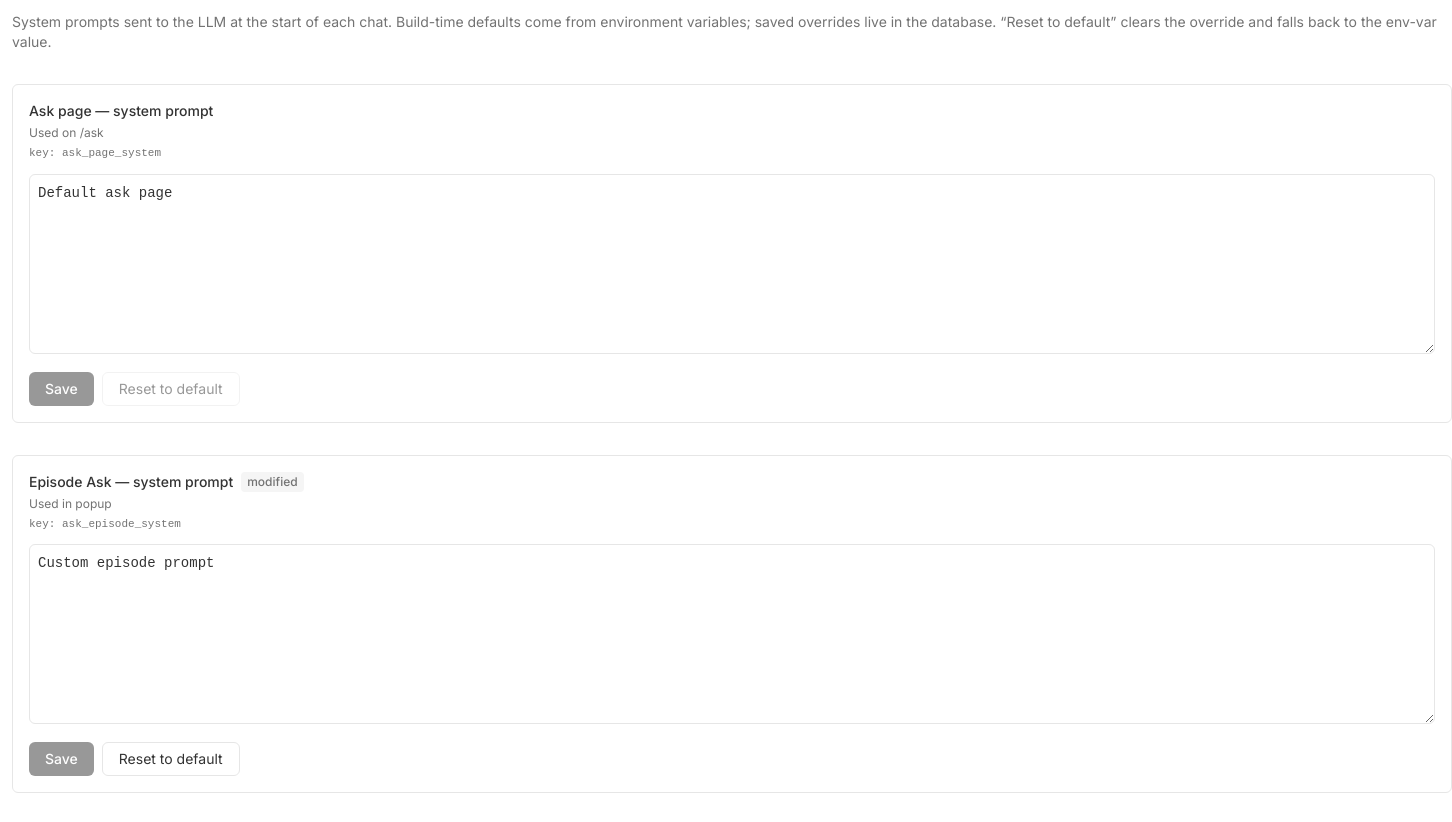
Test case: <PromptsSection> › toasts a network error when a save throws
The image size is (1452, 822).
Expected: the text "Ask page — system prompt" is shown, [29, 101, 213, 121]
Replace the text in the text box below "ask_page_system" with "new value". click: (732, 264)
box: [29, 174, 1435, 354]
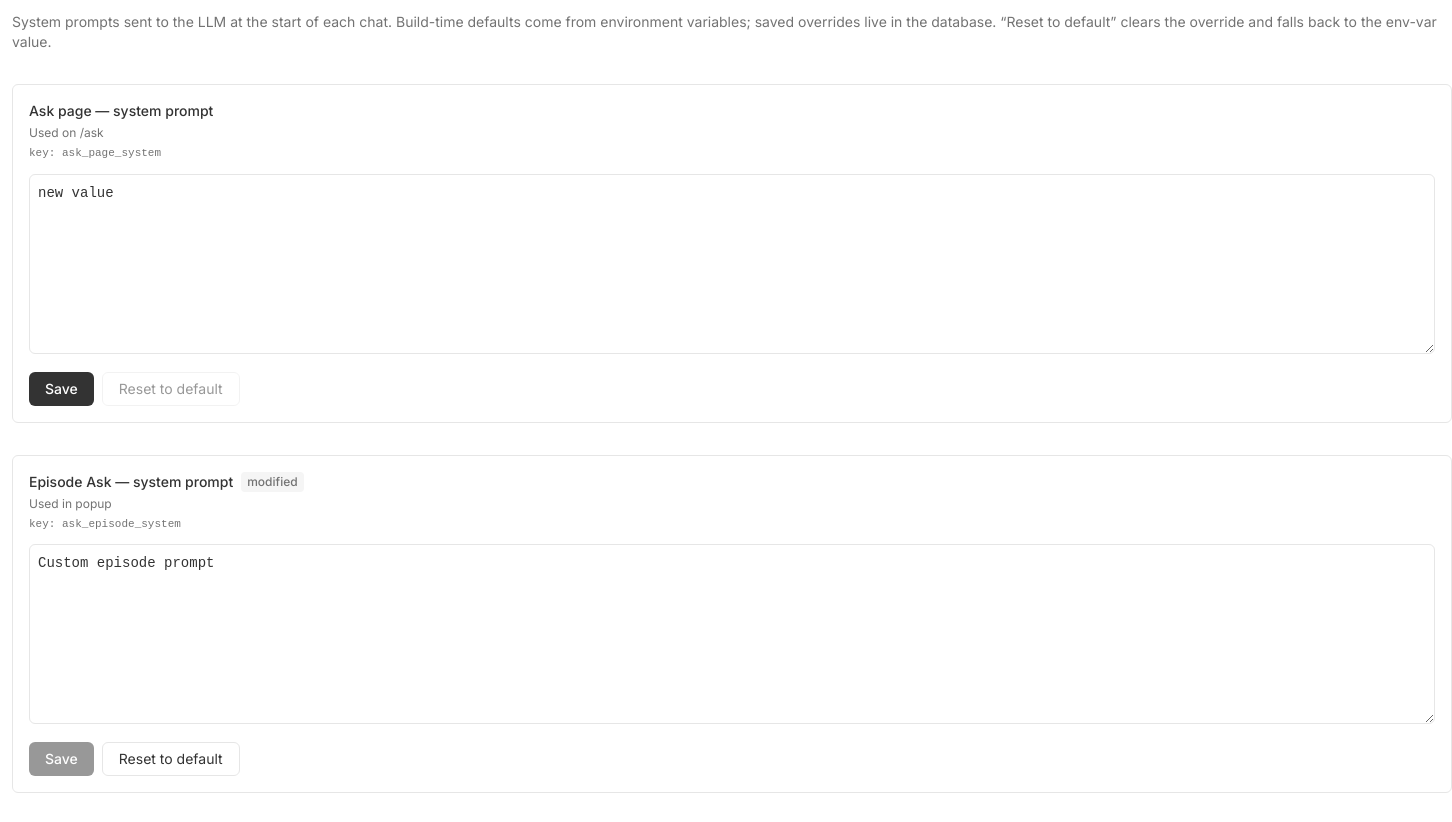
Click the button "Save" below "ask_page_system". click: (61, 388)
box: [29, 372, 94, 406]
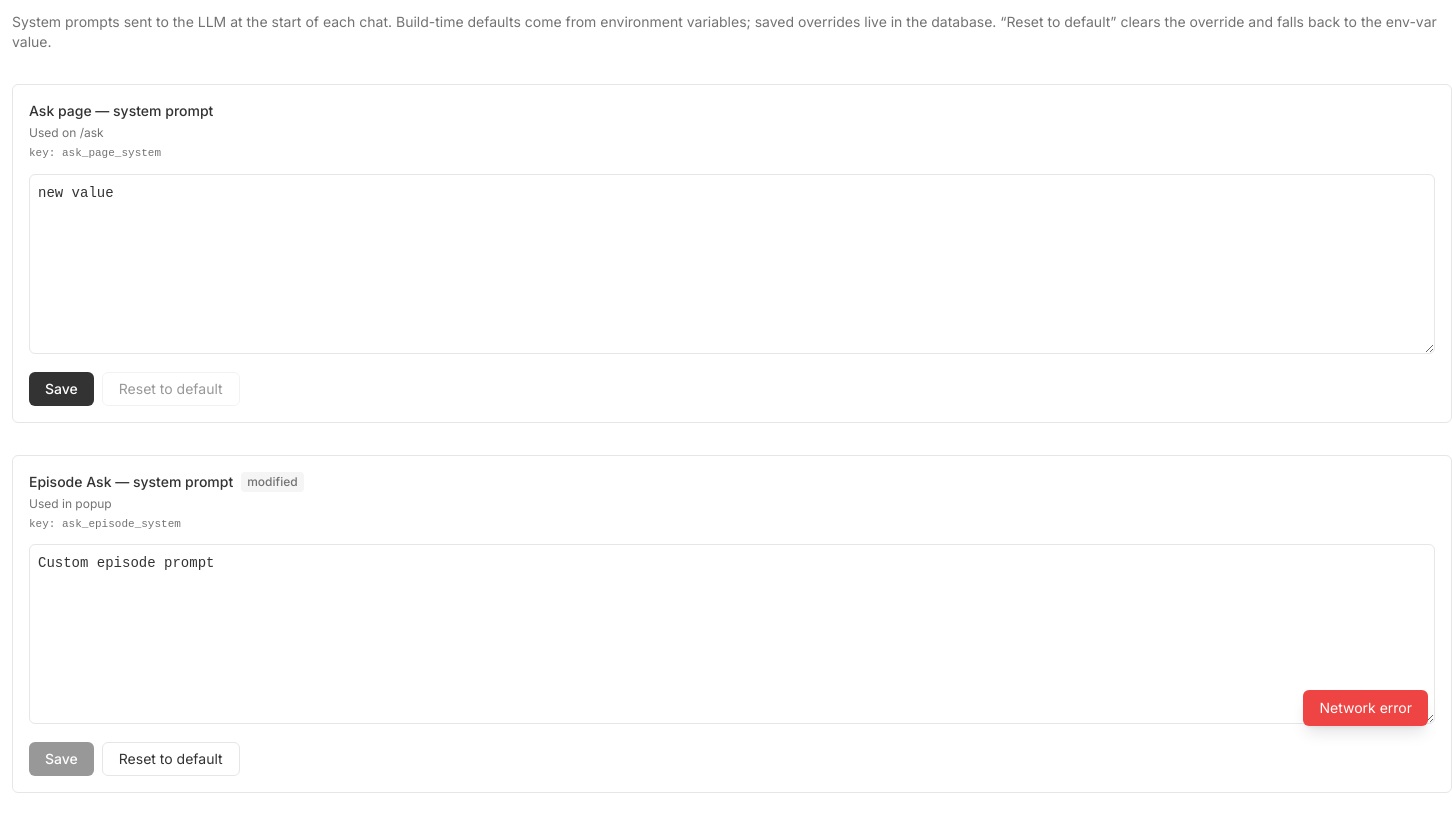
Expected: the text "Network error" is shown, [1303, 690, 1428, 726]
